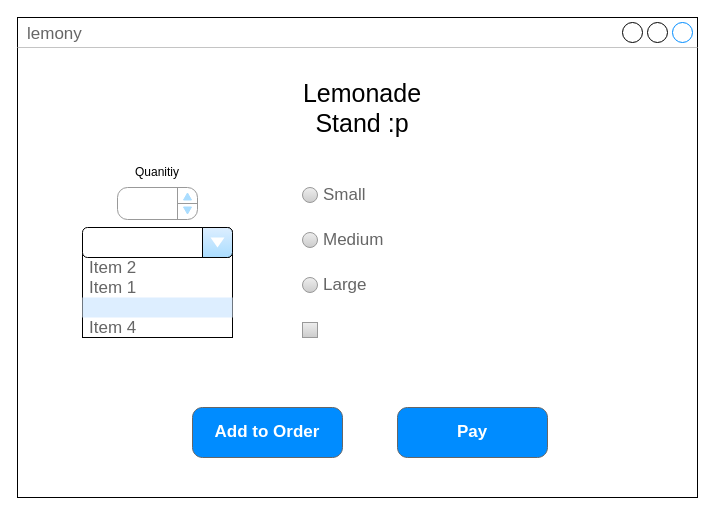
The diagram is 715 pixels wide and 515 high, and some of its shapes have lost their labels. The shapes that lost their labels are listed below. From the top down, each one's box as (x1, y1, x2, y2) in pixels, then its label:
(82, 226, 232, 258): thing
(82, 297, 232, 317): Item 3
(302, 322, 318, 338): Ice?
